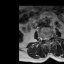CCS_stenosis: (46, 35, 48, 43)
LFS_normal: (49, 33, 51, 40)
LLS_normal: (48, 34, 49, 42)
RFS_normal: (43, 35, 44, 42)
RLS_normal: (44, 35, 46, 42)
